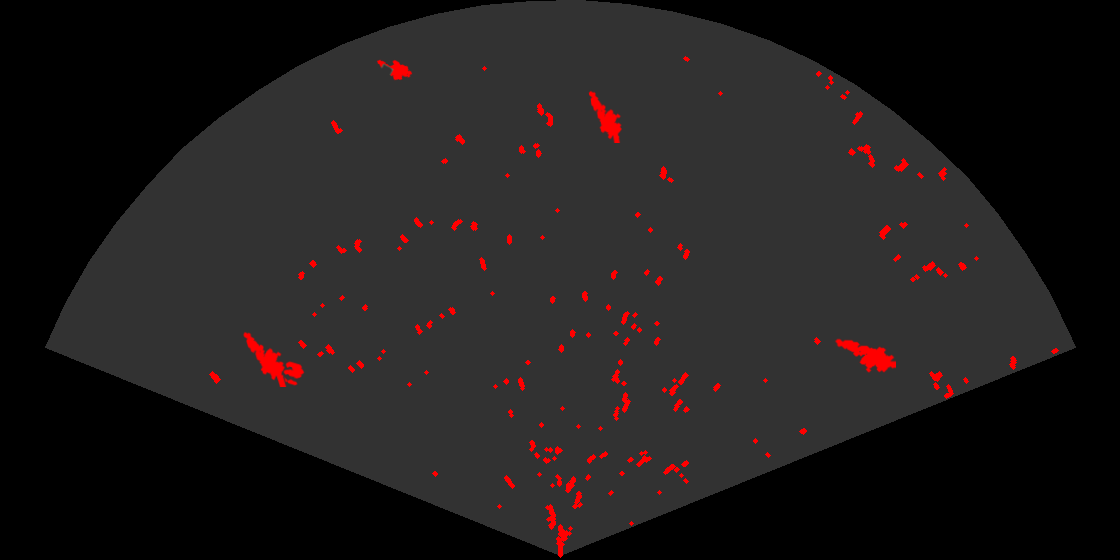AUV: (375, 58, 414, 82)
ball: (280, 360, 306, 387)
frogman: (242, 330, 288, 387), (834, 337, 896, 374), (587, 89, 624, 143)
